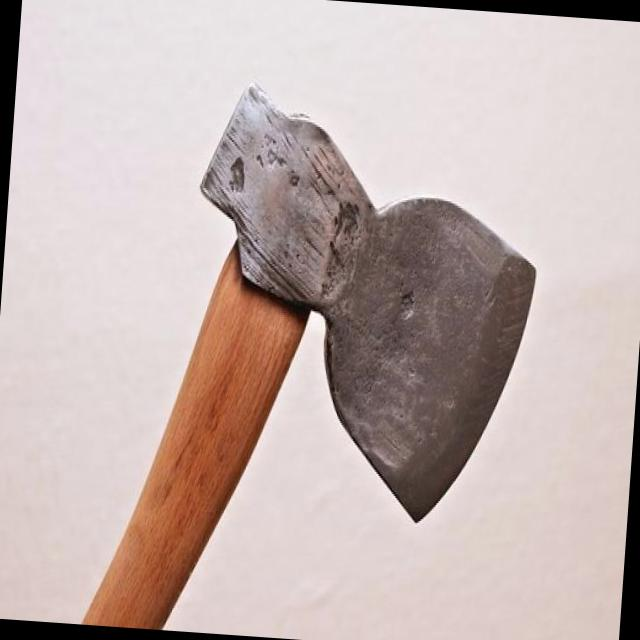Axe: (84, 86, 535, 629)
